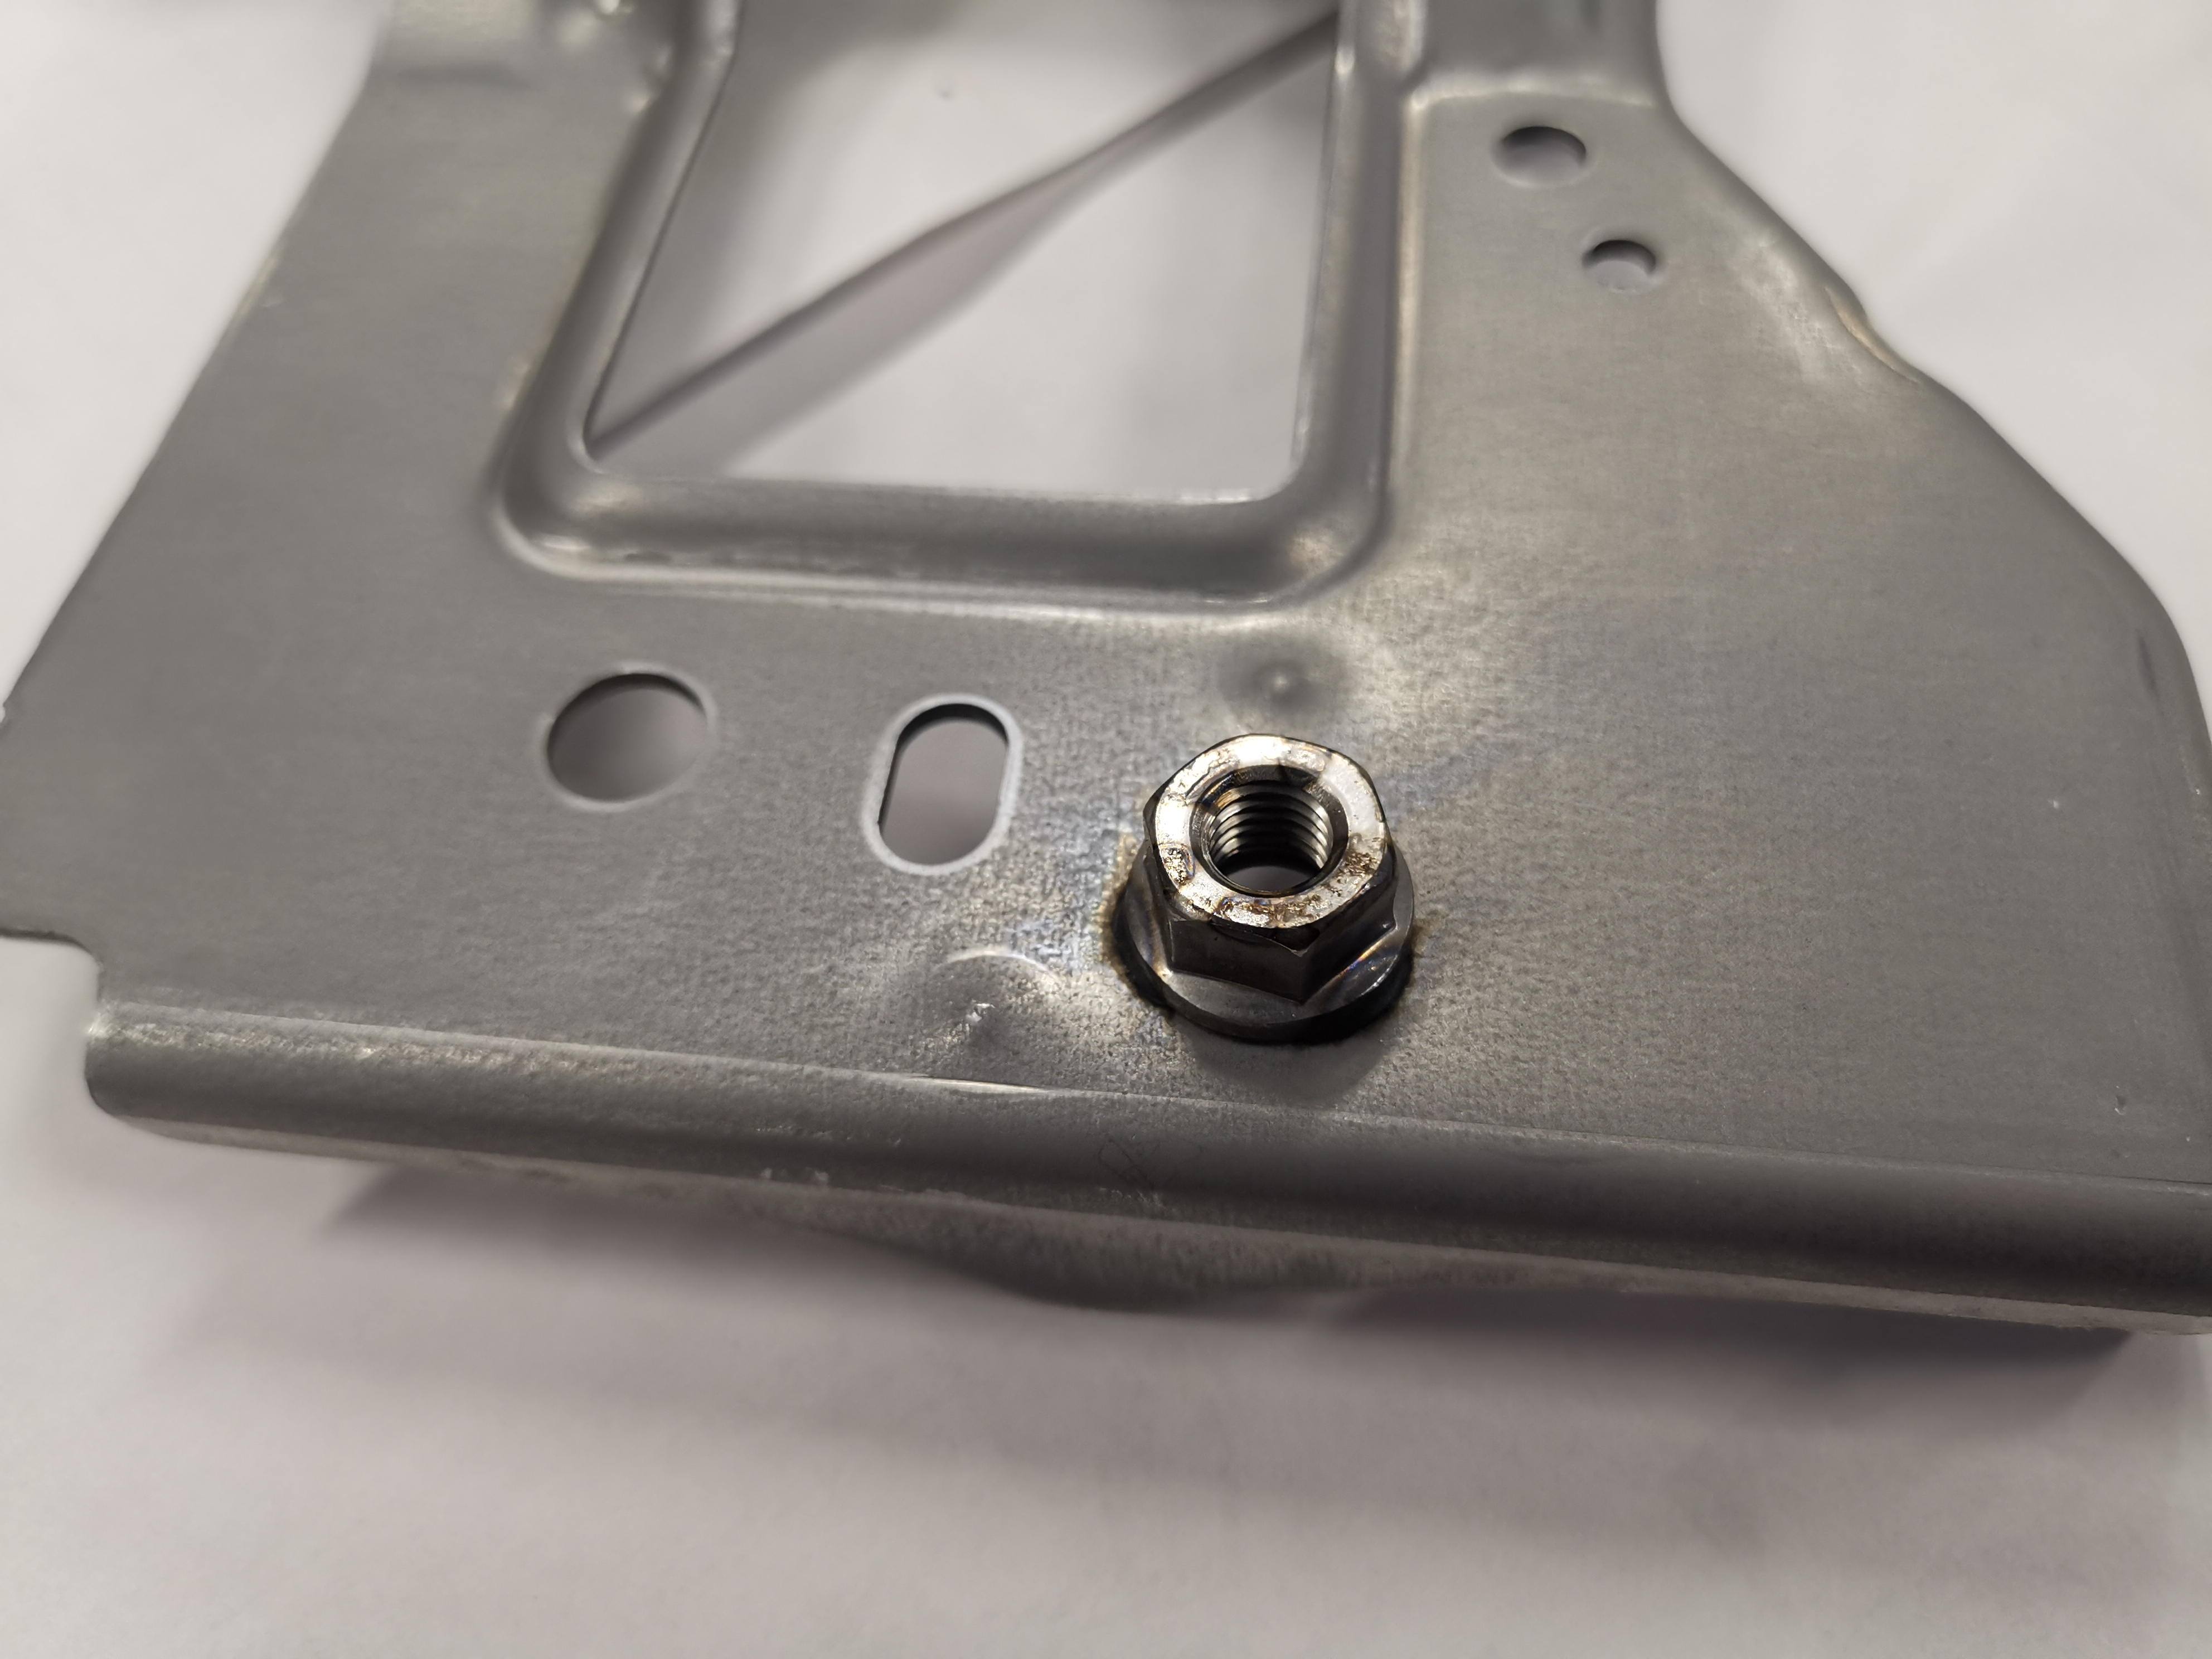dog: (1108, 727, 1433, 1053)
